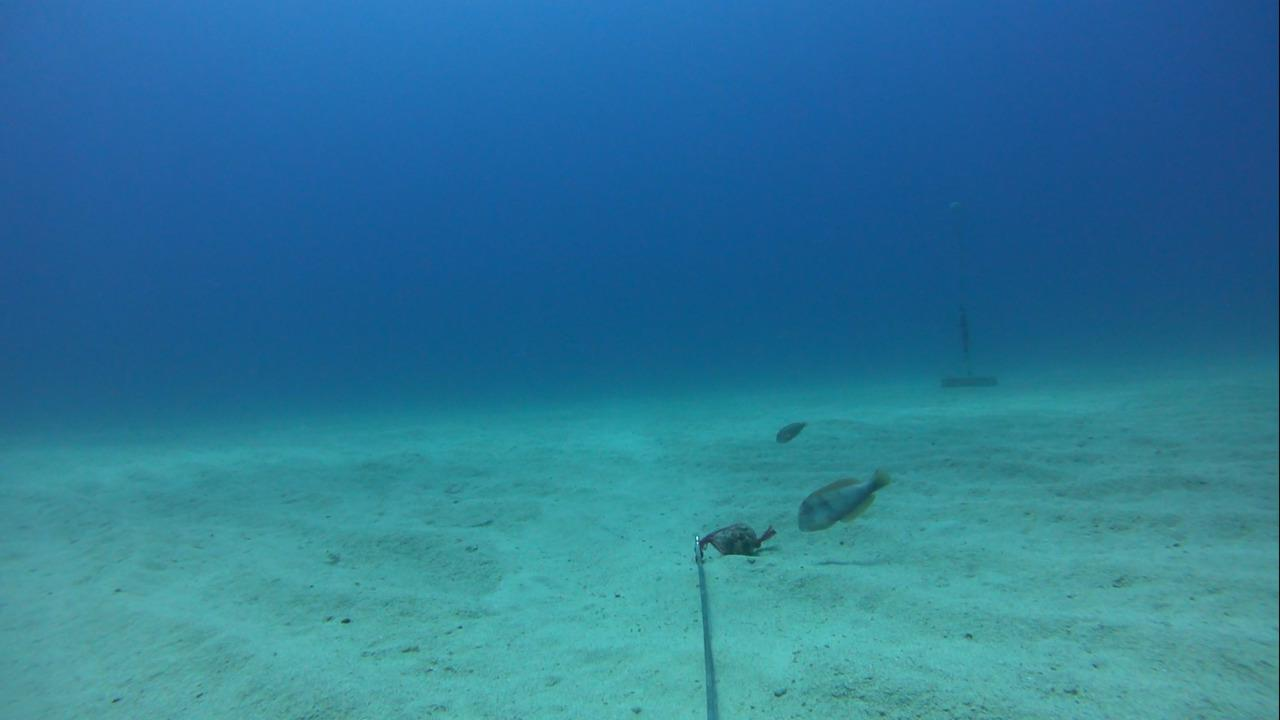raor: (785, 460, 899, 541), (769, 412, 823, 450)
